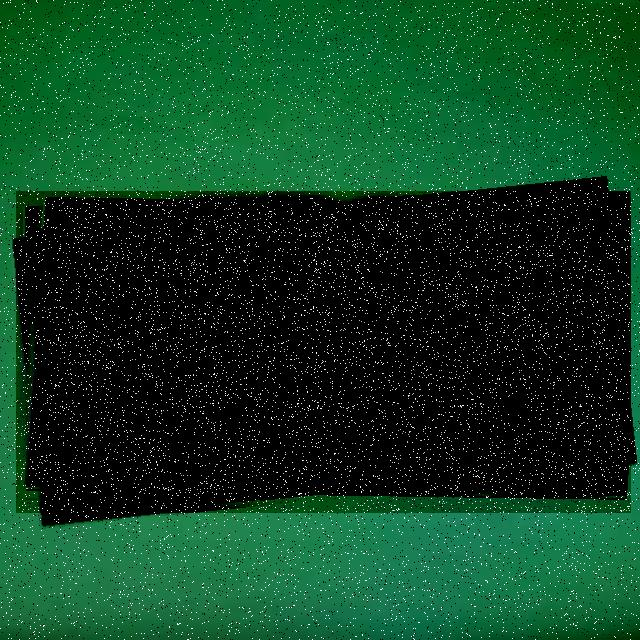lima puluh ribu rupiah: (16, 191, 631, 513)
